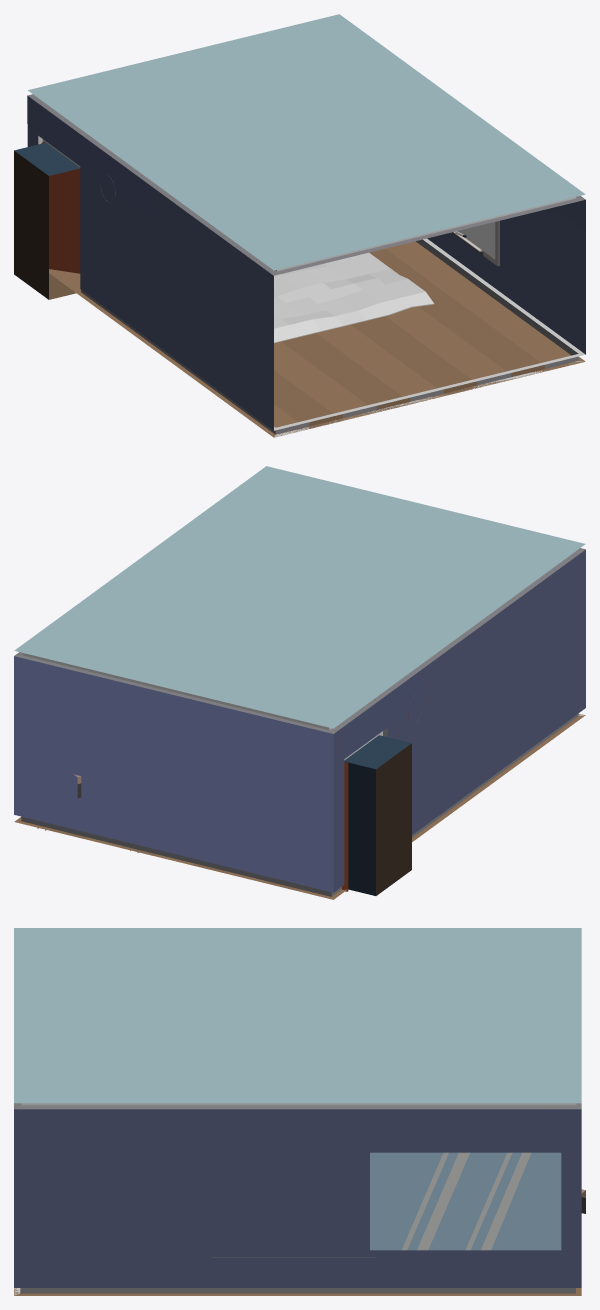
Rendered from room_03.fbx.
3 renders of one model, top to bottom at view 1: azimuth 30°, elevation 25°; view 2: azimuth 150°, elevation 25°; view 3: azimuth 270°, elevation 25°, orthographic. The views are drawn at different scales.
Parts seen in each view (by area): view 1: room, rug, door, whiteboard; view 2: room, door; view 3: room, windows.
Part boxes in pixels (bbox=[...]): room: bbox=[14, 14, 585, 437]; rug: bbox=[274, 252, 434, 343]; door: bbox=[41, 142, 80, 273]; whiteboard: bbox=[451, 220, 499, 266]; room: bbox=[14, 466, 585, 899]; door: bbox=[342, 762, 348, 891]; room: bbox=[14, 928, 581, 1295]; windows: bbox=[370, 1152, 561, 1250].
Size of the model in its own units: 705 by 335 by 881.
